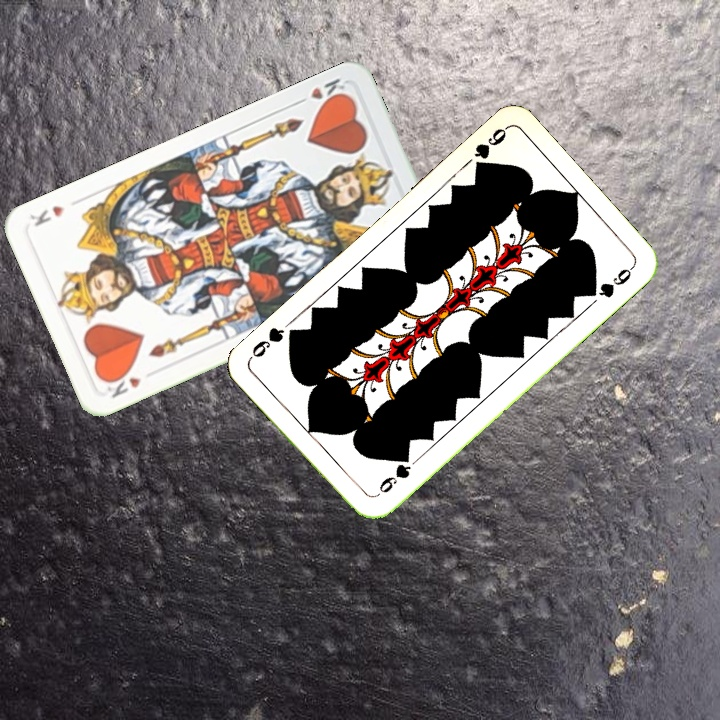G9: (470, 123, 510, 175), (371, 451, 413, 500)
HK: (291, 74, 350, 110), (103, 373, 144, 401)
